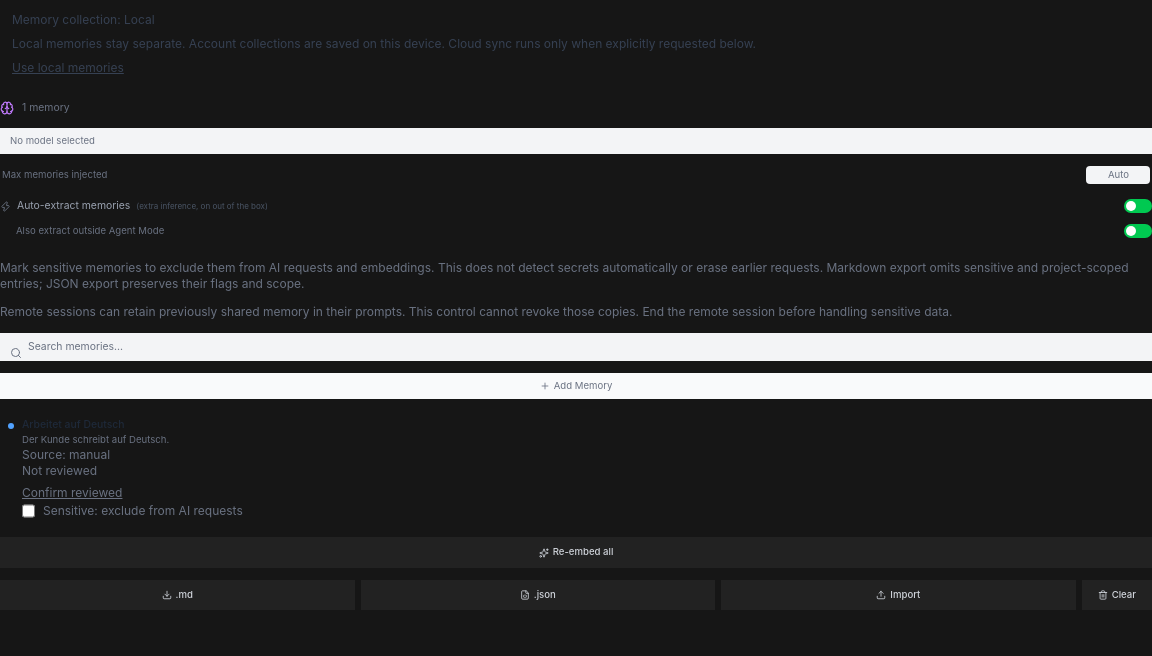
Test: das Erinnerungsformular › NEGATIVKONTROLLE: und der Kunde liest jetzt, warum, statt in ein leeres Feld zu sehen
Step 1. Click the button "Add Memory" → (576, 386), box x1=0 y1=373 x2=1151 y2=399
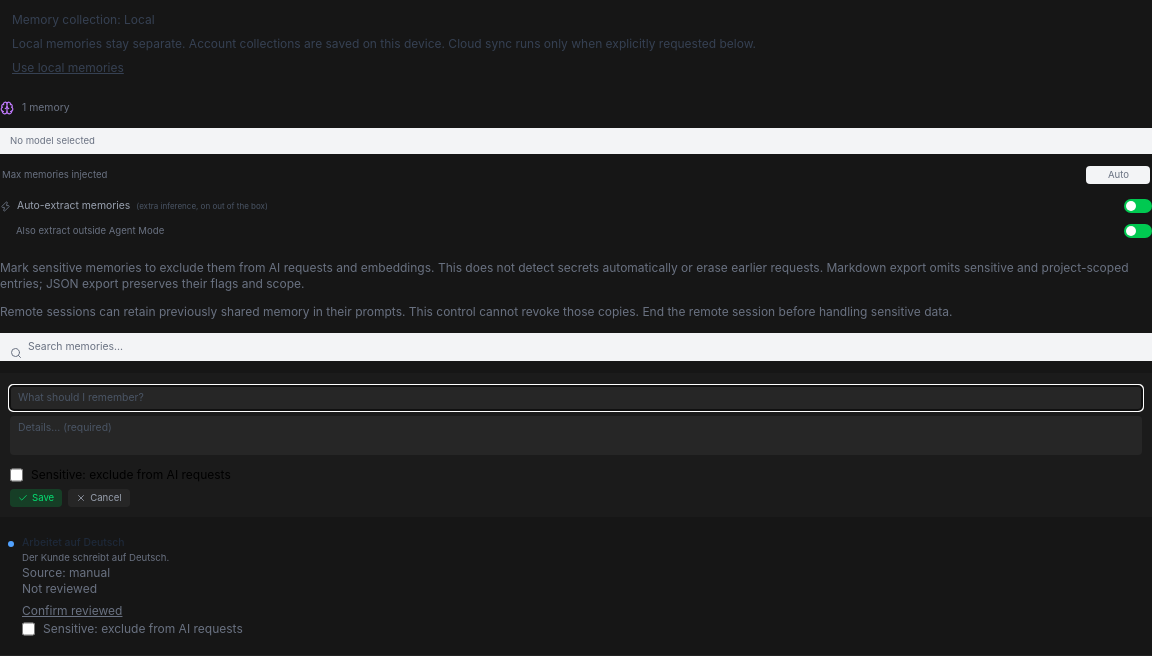
Step 2. Type "Arbeitet auf Deutsch" into the field with placeholder "What should I remember?" → (576, 398), box x1=10 y1=386 x2=1142 y2=410
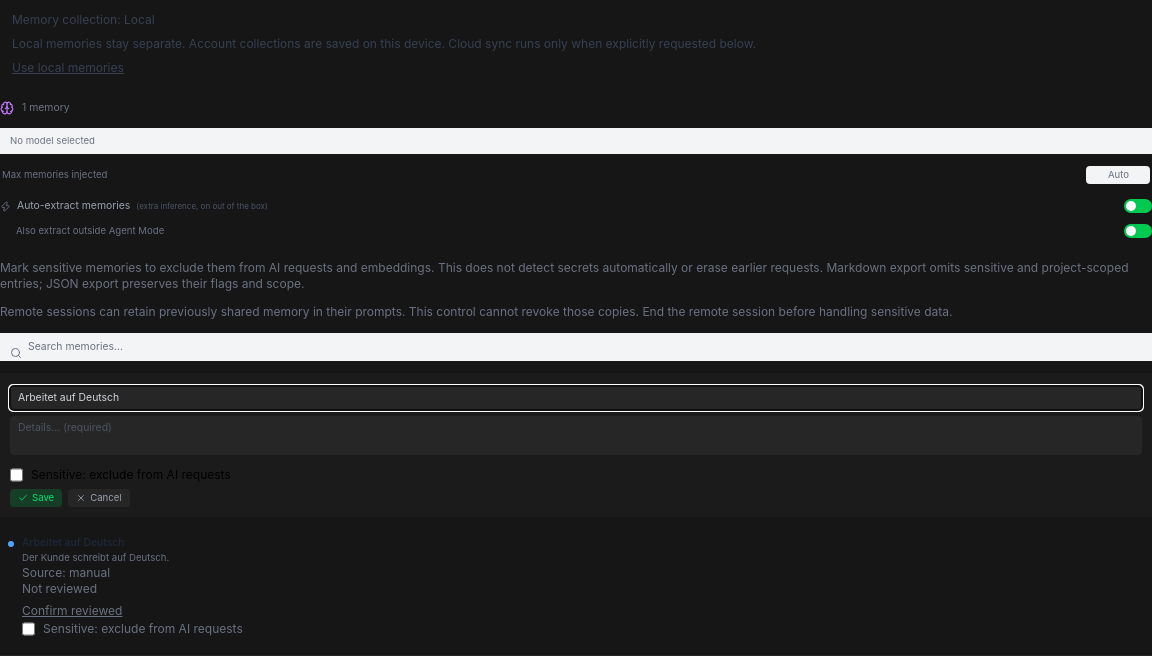
Step 3. Type "Der Kunde schreibt auf Deutsch." into the text box with placeholder "Details… (required)" → (576, 435), box x1=10 y1=416 x2=1142 y2=455
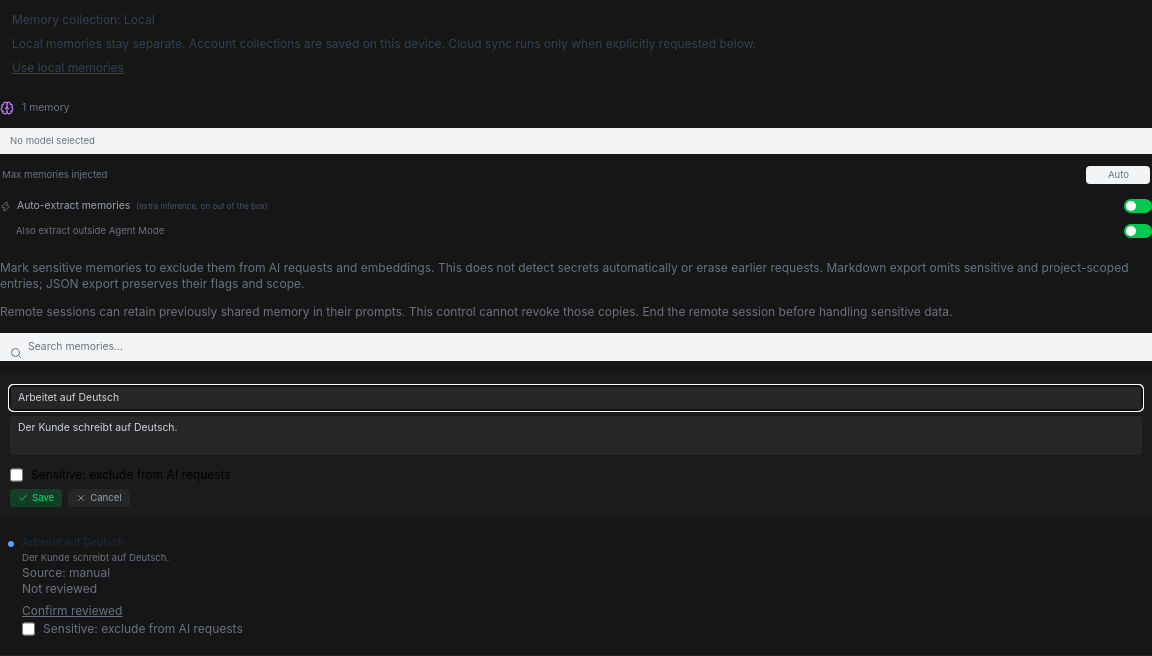
Step 4. Click the button "Save" → (36, 498), box x1=10 y1=489 x2=62 y2=507
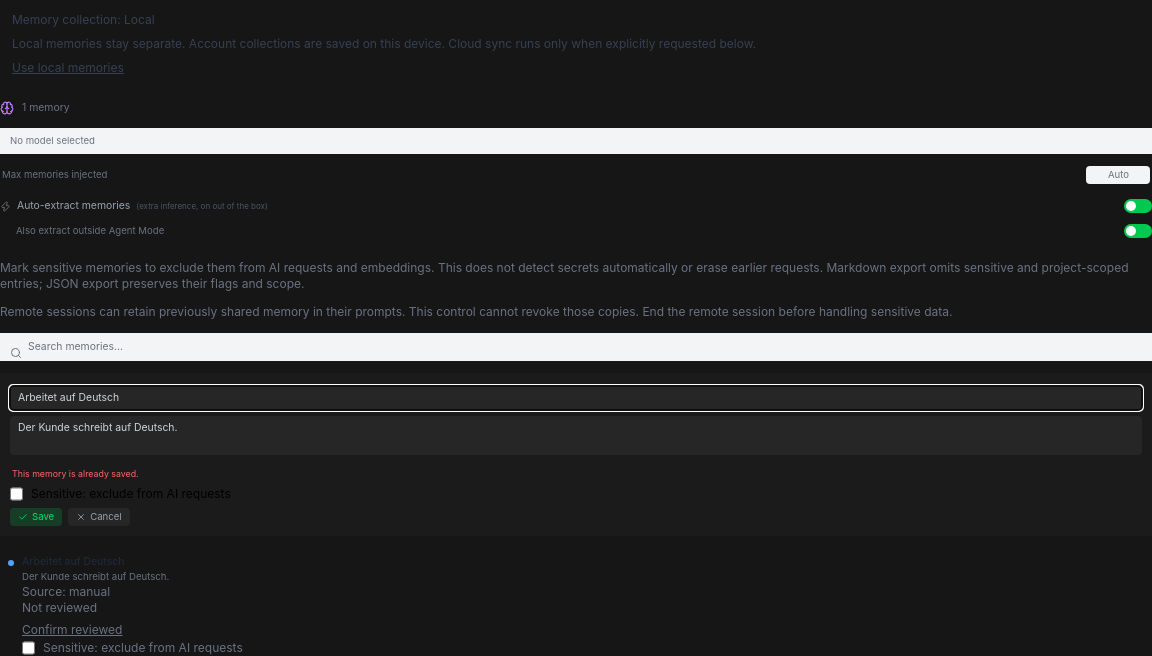
Expected: the text "This memory is already saved." is shown, x1=12 y1=468 x2=139 y2=479
